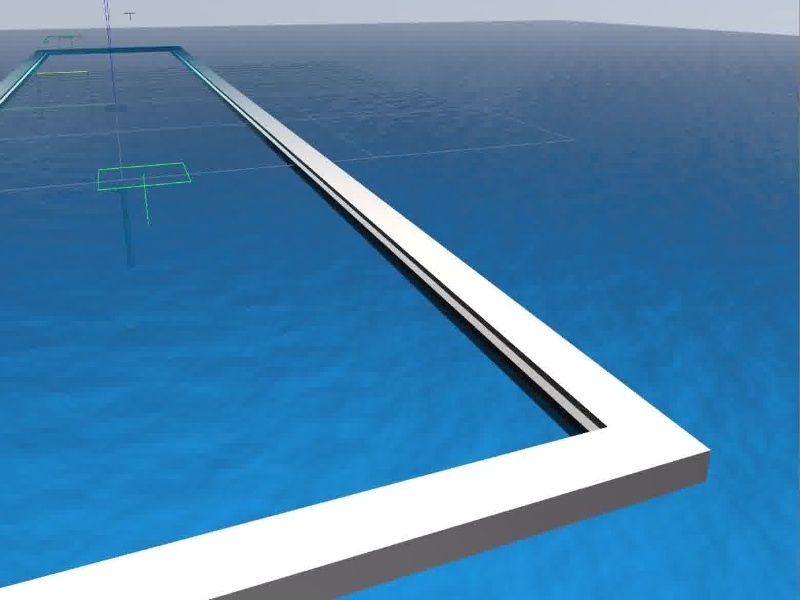gate: (35, 71, 93, 110)
